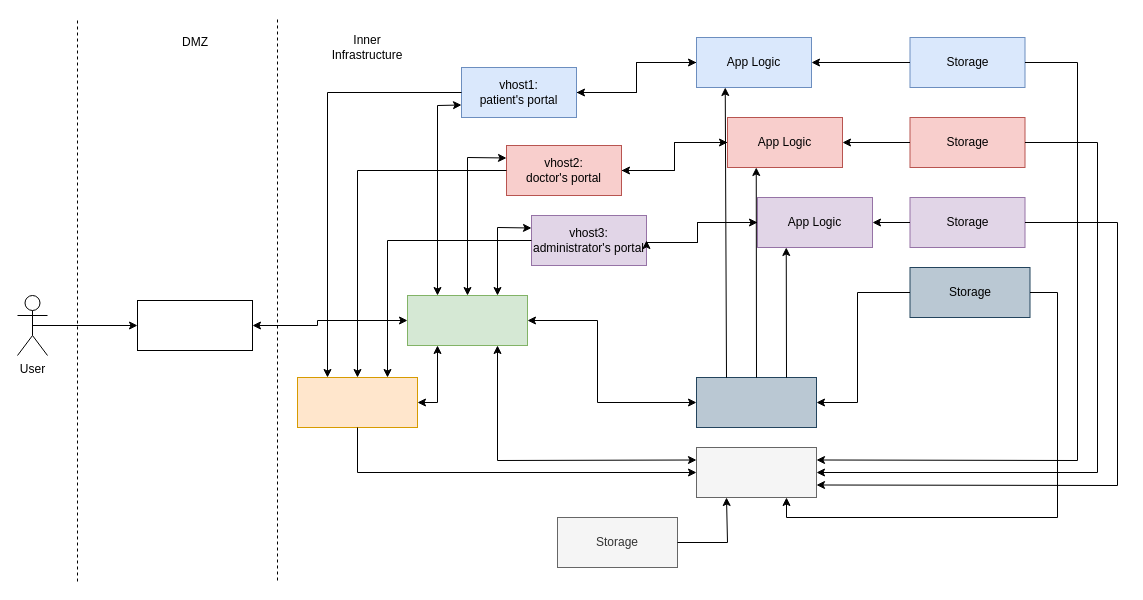
Image size: 1143x600. Some labels were removed from this diagram. Each missing label, with the centre of its shape:
backup: [756,472]
database: [756,402]
Monitoring: [467,320]
proxy: [194,325]
startup: [357,402]
